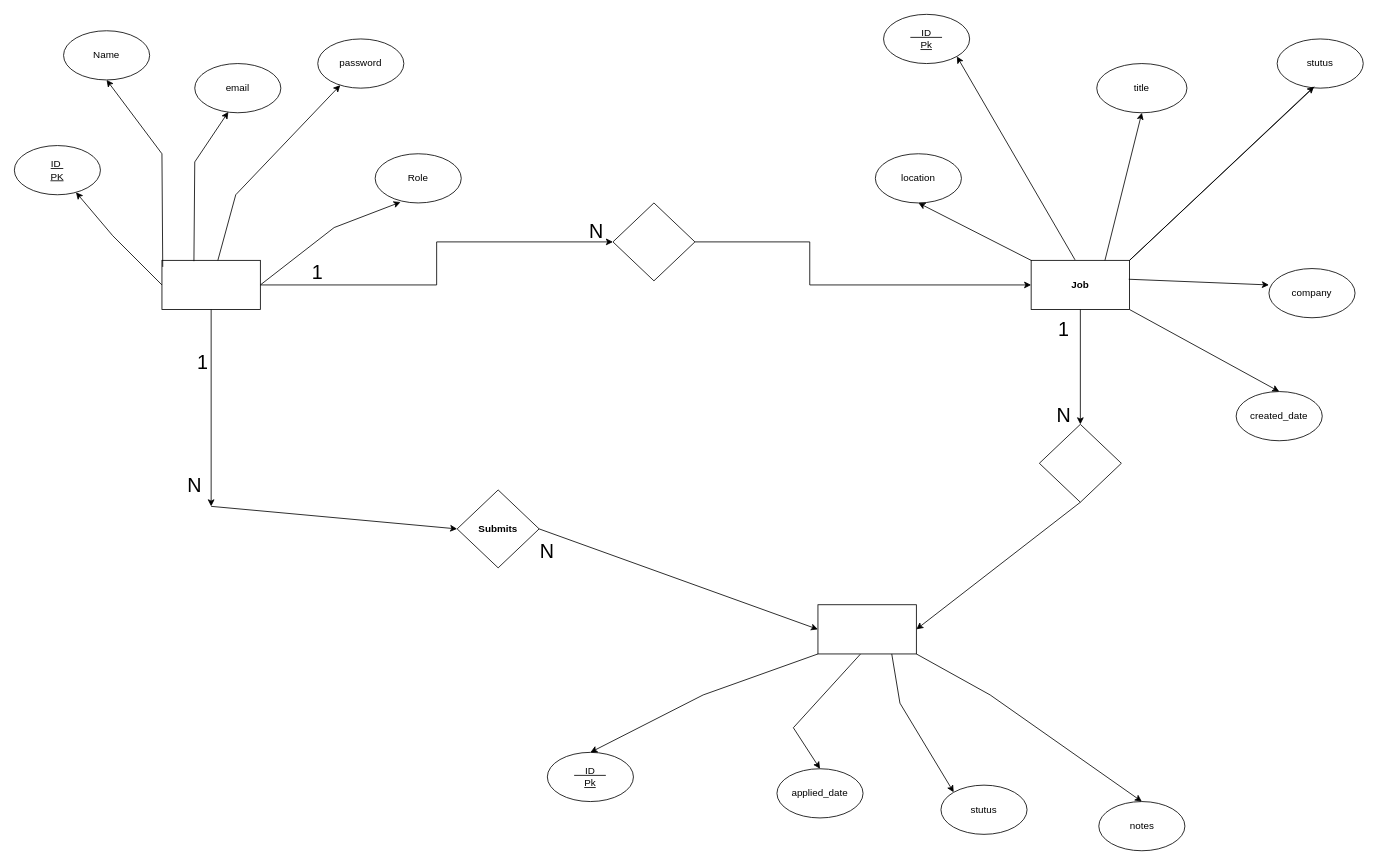
The diagram is 1378 pixels wide and 865 high, and some of its shapes have lost their labels. Each missing label, with the centre of its shape:
Application: (x=866, y=629)
creates: (x=653, y=241)
Has: (x=1080, y=463)
User: (x=210, y=285)
